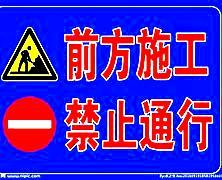sign: (2, 4, 219, 176)
